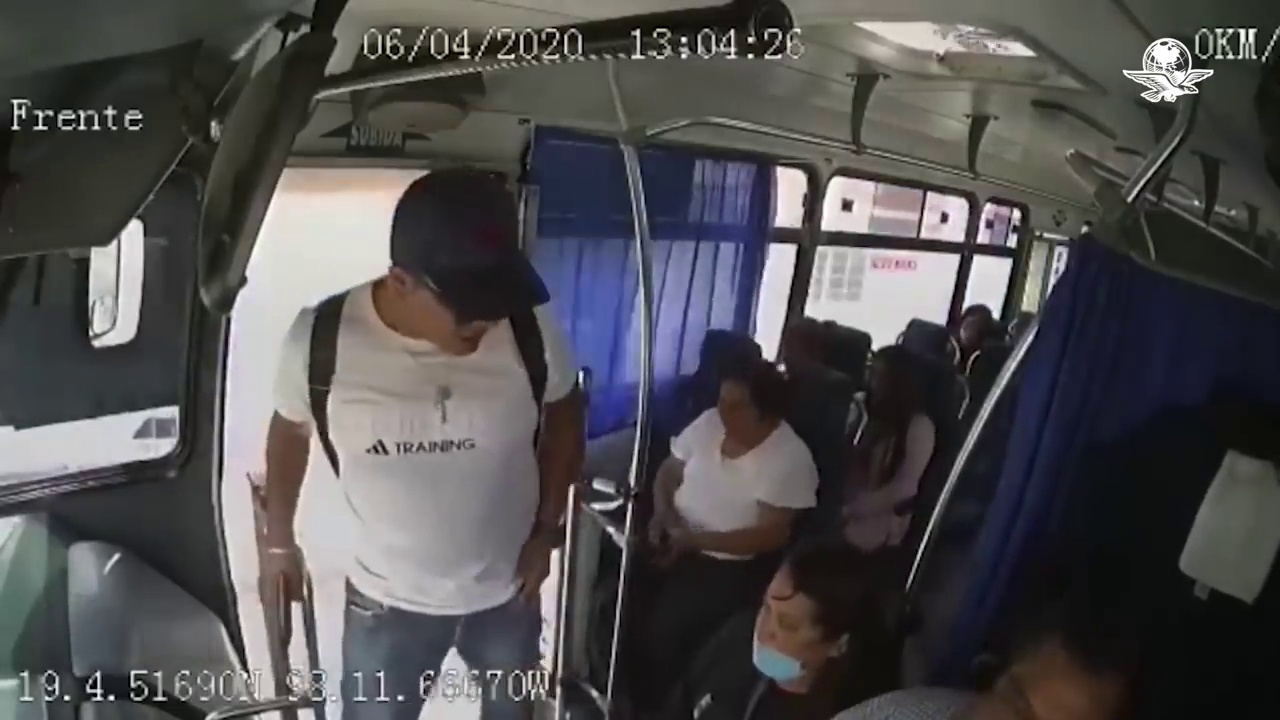pistol: (270, 563, 298, 670)
